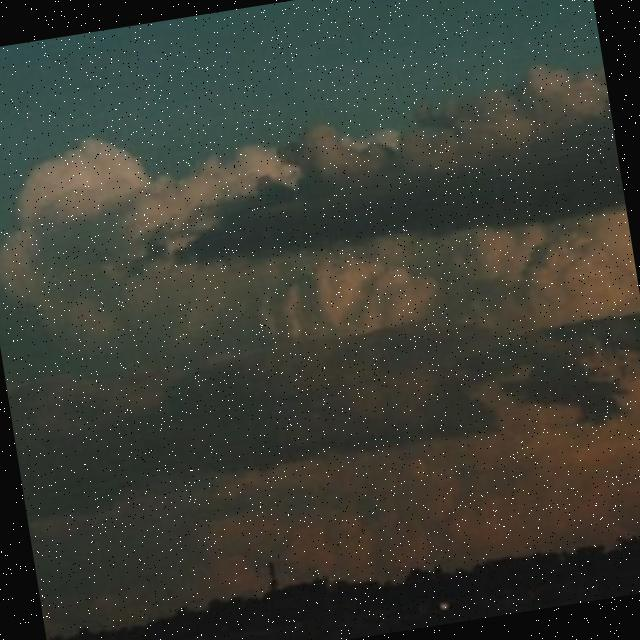Sc: (1, 46, 640, 539)
